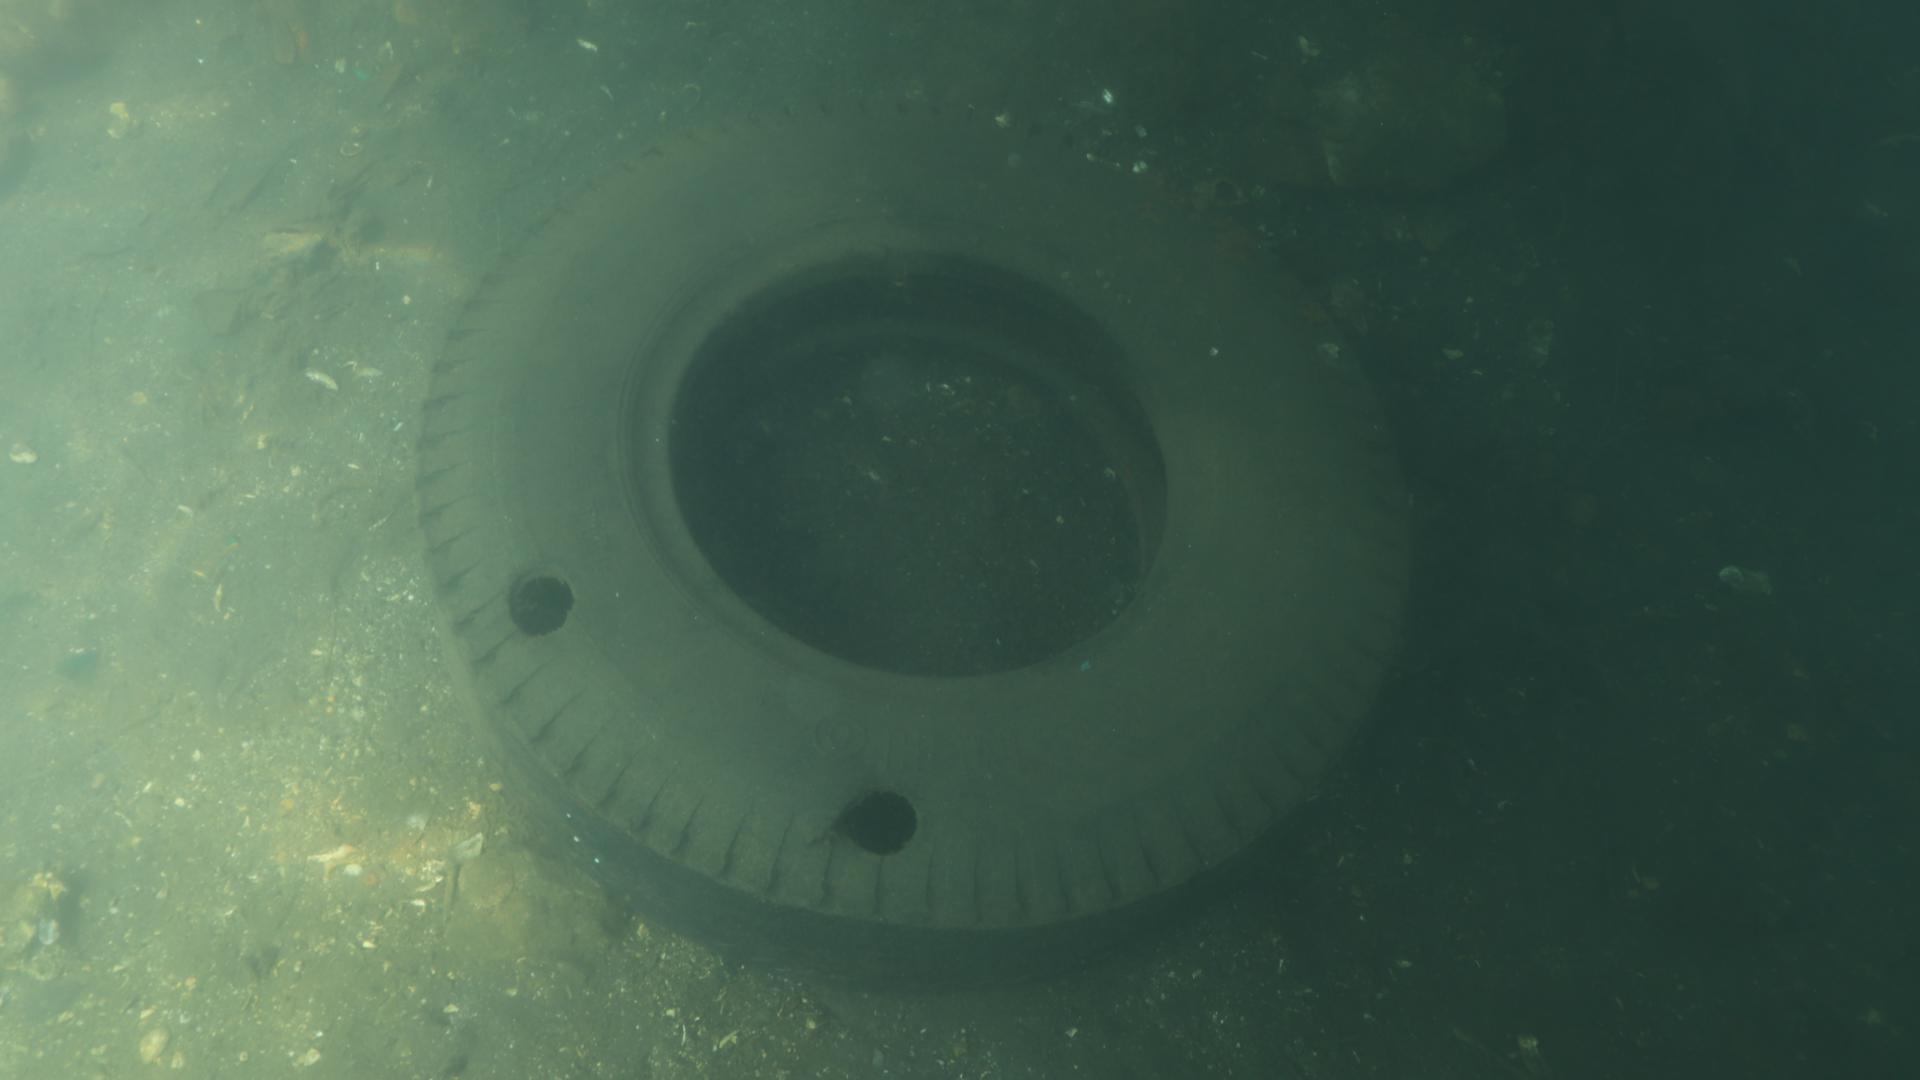tire: (411, 98, 1414, 986)
